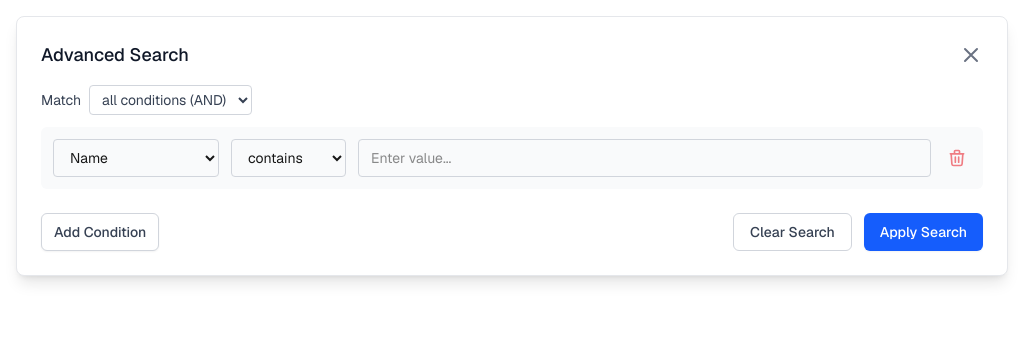
Test: AdvancedSearchBuilder › shows two inputs for between and inline errors instead of applying
Select "Joined" in the dropdown named "Condition 1 field" at (136, 158), box [53,139,219,177]
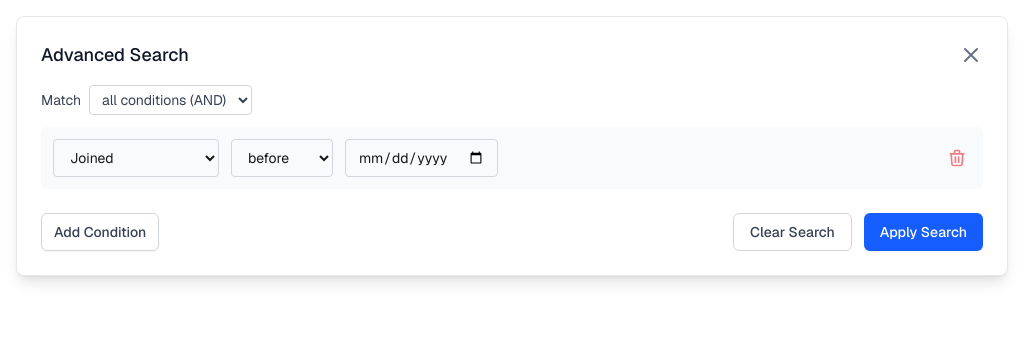
Select "between" in the dropdown named "Condition 1 operator" at (282, 158), box [231,139,333,177]
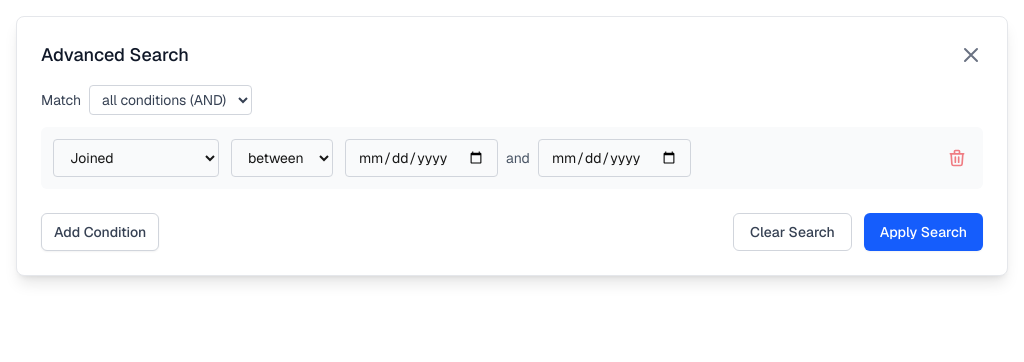
Type "2026-02-01" into the date field named "Condition 1 from" at (422, 158), box [345,139,498,177]
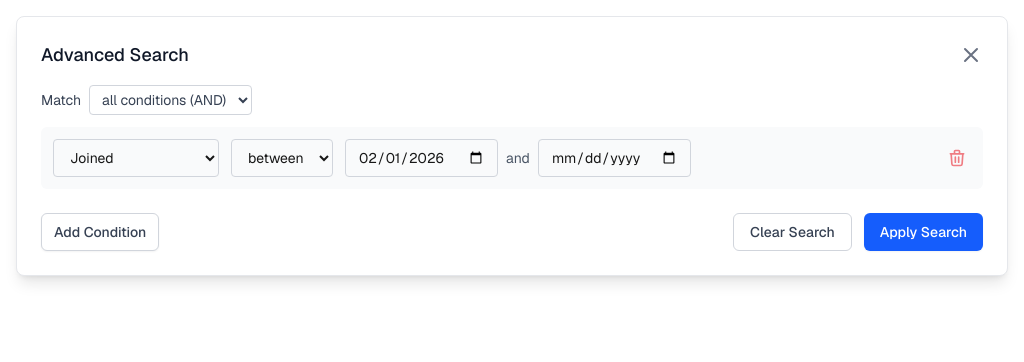
Type "2026-01-01" into the date field named "Condition 1 to" at (614, 158), box [538,139,691,177]
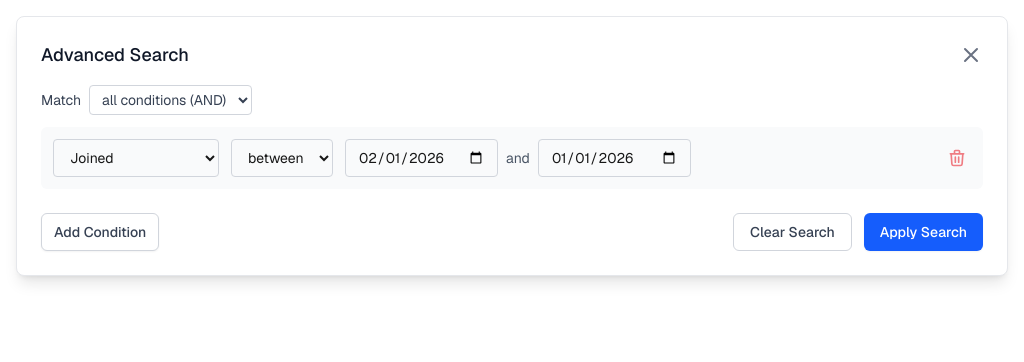
Click the button "Apply Search" at (923, 232), box [864,213,983,251]
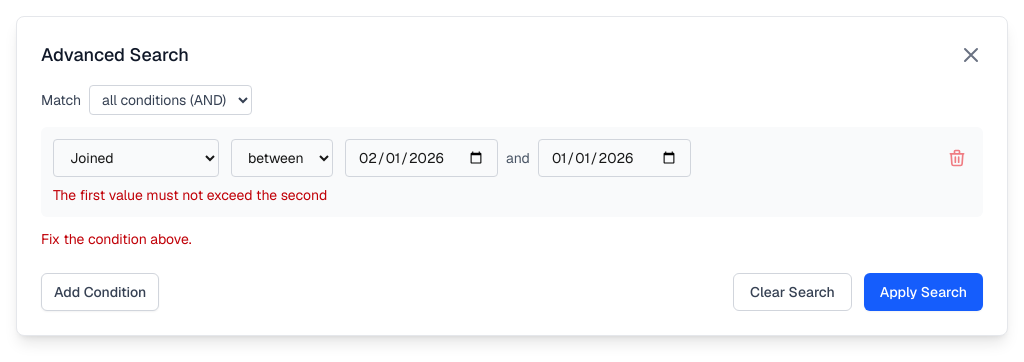
Result: the text "The first value must not exceed the second" is shown at [53,186,327,204]
Result: the message reads "Fix the condition above." at [41,230,192,248]
